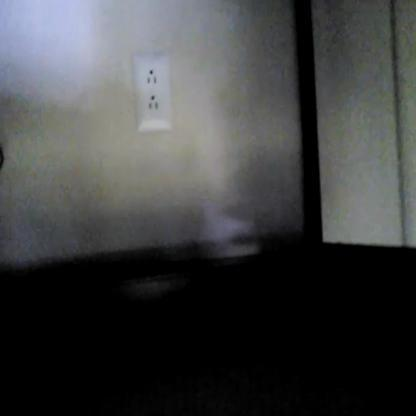OUTLET: (136, 54, 171, 130)
